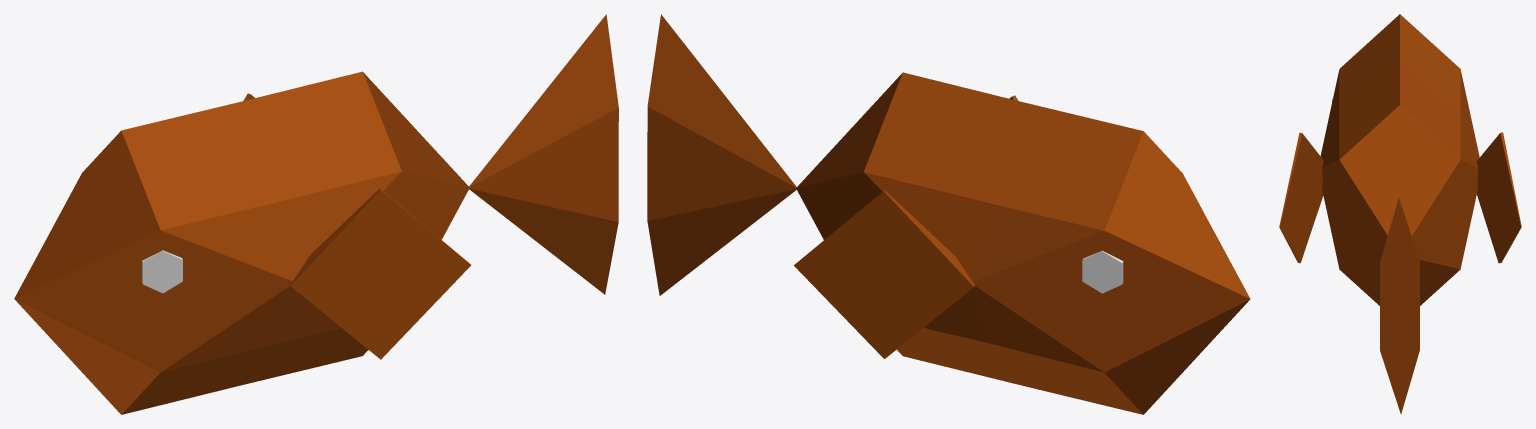
The model's file is first_fish.fbx.
3 renders of one model, left to right at view 1: azimuth 30°, elevation 25°; view 2: azimuth 150°, elevation 25°; view 3: azimuth 270°, elevation 25°, orthographic. The views are drawn at different scales.
Visible parts, largest first — view 1: Cube, Cone, Cube.002, Cylinder; view 2: Cube, Cone, Cube.001, Cylinder.001; view 3: Cube, Cone, Cube.001, Cube.002.
Part boxes in pixels (x1=…): Cube: x1=14, y1=71, x2=469, y2=414; Cone: x1=469, y1=14, x2=618, y2=294; Cube.002: x1=290, y1=188, x2=470, y2=359; Cylinder: x1=142, y1=250, x2=182, y2=293; Cube: x1=796, y1=72, x2=1250, y2=414; Cone: x1=647, y1=14, x2=796, y2=295; Cube.001: x1=794, y1=190, x2=974, y2=358; Cylinder.001: x1=1082, y1=250, x2=1123, y2=293; Cube: x1=1320, y1=14, x2=1479, y2=305; Cone: x1=1380, y1=198, x2=1419, y2=414; Cube.001: x1=1476, y1=132, x2=1521, y2=263; Cube.002: x1=1279, y1=132, x2=1323, y2=263.
Size of the model in its own units: 437 by 201 by 201.
